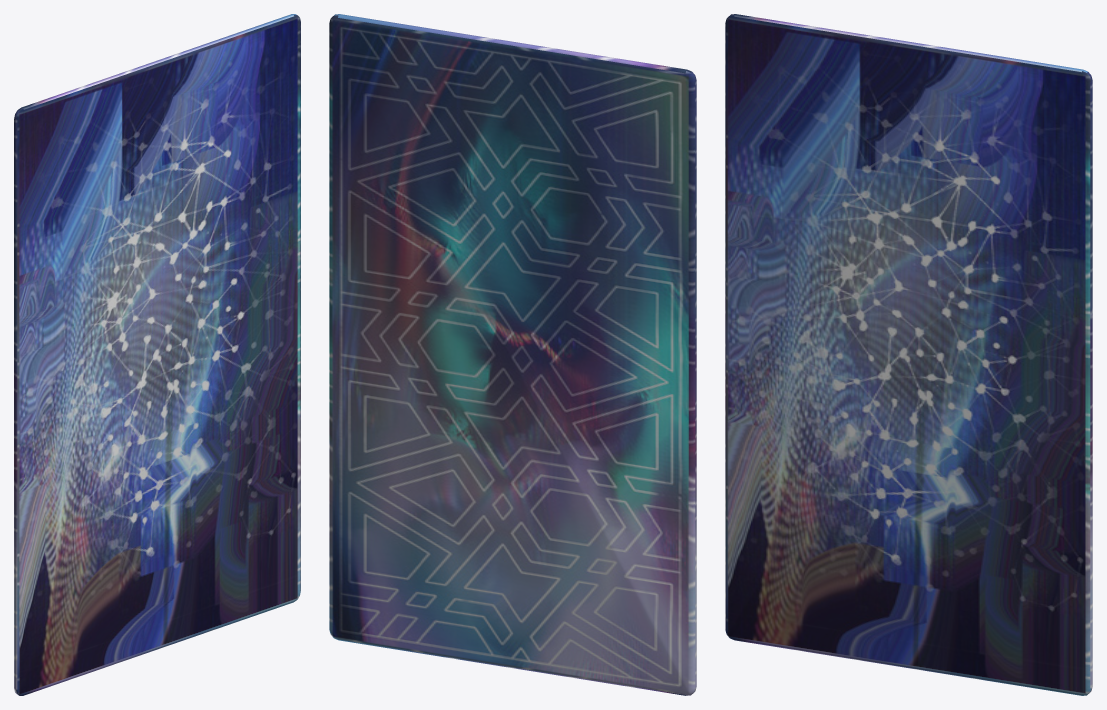
File: tarot_stars.fbx
3 views of the same model, side by side, from view 1: azimuth 30°, elevation 25°; view 2: azimuth 150°, elevation 25°; view 3: azimuth 330°, elevation 25° (orthographic). The views are drawn at different scales.
Visible parts, largest first — view 1: Cube_2; view 2: Cube_2; view 3: Cube_2.
Boxes of the visible parts, box(x1,y1,x2,y2) form: Cube_2: box(14, 14, 300, 695); Cube_2: box(329, 14, 696, 695); Cube_2: box(725, 14, 1092, 695).
Bounding box in the file's own units: 190 × 339 × 34.06.
Materials: 1 (1 with a texture image).
